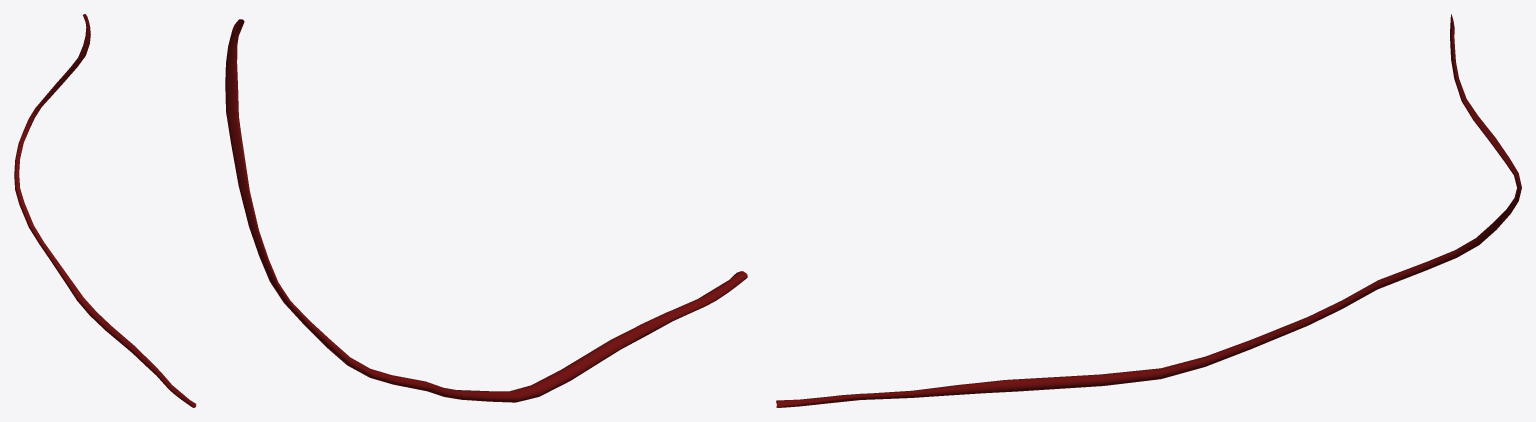
Rendered from L arteria epigastrica cranialis.fbx.
The picture shows the model from 3 angles, left to right: view 1: azimuth 30°, elevation 25°; view 2: azimuth 150°, elevation 25°; view 3: azimuth 270°, elevation 25°; orthographic projection. The views are drawn at different scales.
Parts seen in each view (by area): view 1: L arteria epigastrica cranialis, L arteria epigastrica cranialis low; view 2: L arteria epigastrica cranialis, L arteria epigastrica cranialis low; view 3: L arteria epigastrica cranialis, L arteria epigastrica cranialis low.
Part boxes in pixels (bbox=[...]): L arteria epigastrica cranialis: bbox=[14, 14, 196, 407]; L arteria epigastrica cranialis low: bbox=[20, 14, 195, 407]; L arteria epigastrica cranialis: bbox=[225, 19, 747, 402]; L arteria epigastrica cranialis low: bbox=[226, 19, 743, 397]; L arteria epigastrica cranialis: bbox=[776, 16, 1521, 407]; L arteria epigastrica cranialis low: bbox=[776, 14, 1518, 407].
Bounding box in the file's own units: 11.62 × 33.06 × 48.91.
